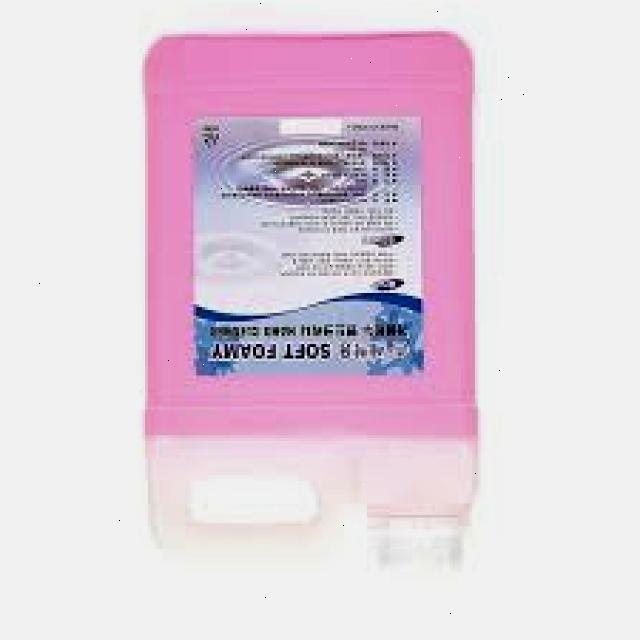liquid soap: (126, 20, 487, 592)
